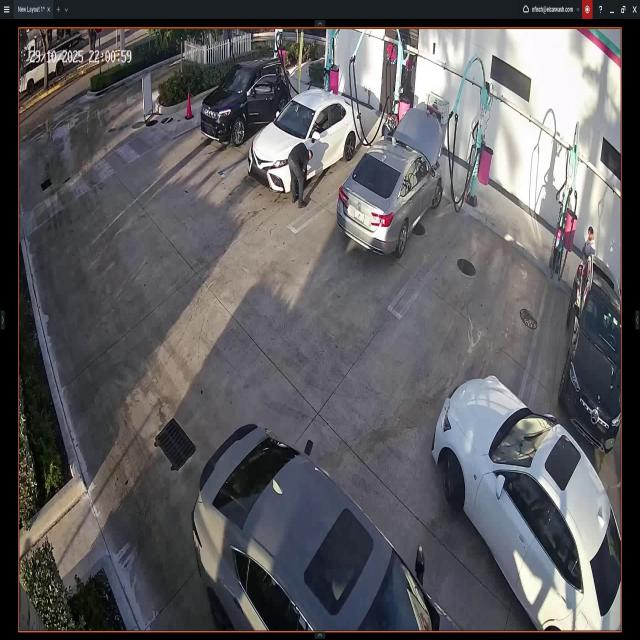Car: (437, 369, 622, 632), (202, 428, 438, 630), (339, 109, 443, 252), (248, 90, 361, 190), (568, 254, 620, 460), (200, 61, 290, 141)
